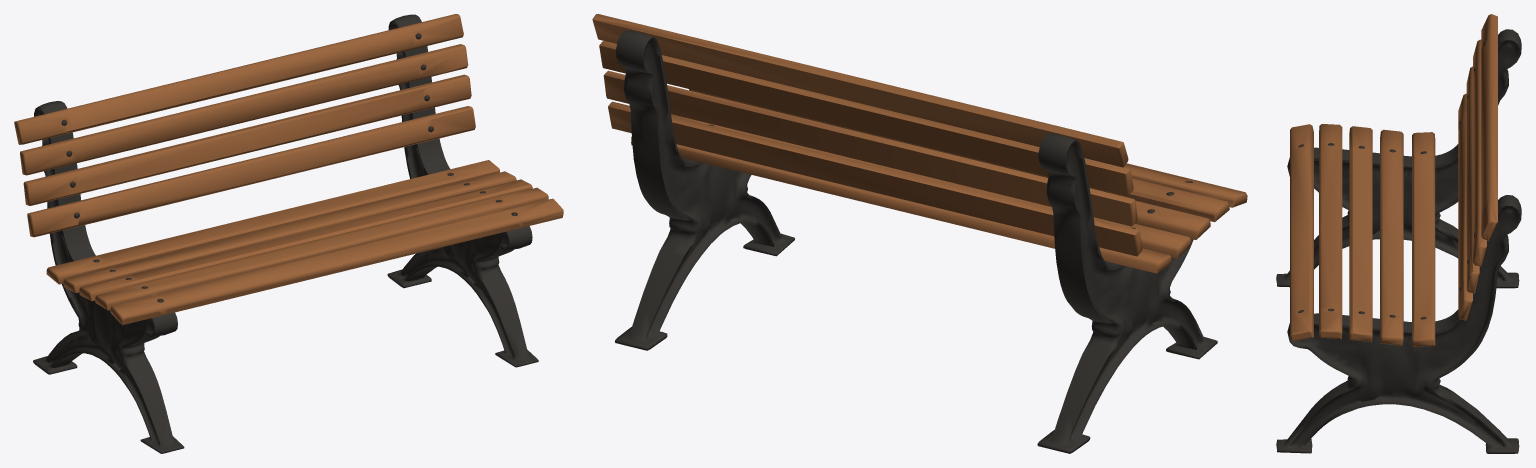
Rendered from bench-0-near.glb.
3 renders of one model, left to right at view 1: azimuth 30°, elevation 25°; view 2: azimuth 150°, elevation 25°; view 3: azimuth 270°, elevation 25°, orthographic. The views are drawn at different scales.
Parts seen in each view (by area): view 1: Polygon_Wood_0, threads_2_Thread_0; view 2: Polygon_Wood_0, threads_2_Thread_0; view 3: Polygon_Wood_0, threads_2_Thread_0.
Part boxes in pixels (bbox=[...]): Polygon_Wood_0: bbox=[14, 14, 563, 325]; threads_2_Thread_0: bbox=[33, 14, 538, 453]; Polygon_Wood_0: bbox=[592, 14, 1247, 273]; threads_2_Thread_0: bbox=[615, 30, 1217, 453]; Polygon_Wood_0: bbox=[1290, 14, 1497, 346]; threads_2_Thread_0: bbox=[1276, 29, 1521, 453].
Bounding box in the file's own units: 1.7 × 0.95 × 0.85.
